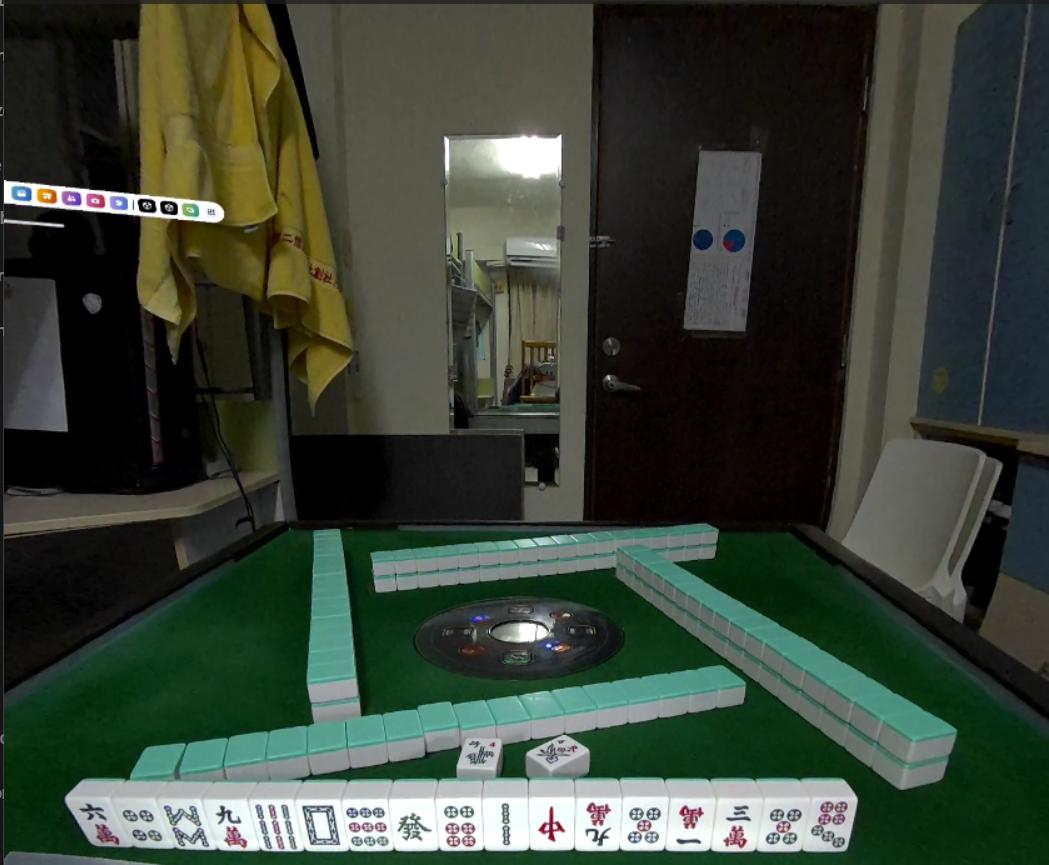mahjong: (160, 800, 224, 856), (246, 796, 303, 858), (340, 802, 393, 859), (293, 802, 343, 855), (810, 796, 856, 853), (486, 795, 530, 852), (64, 800, 123, 842), (577, 796, 621, 852), (433, 797, 476, 851), (533, 799, 583, 845), (209, 800, 253, 852), (719, 802, 763, 853), (673, 796, 715, 849), (117, 799, 164, 845), (393, 797, 436, 844), (764, 802, 804, 852), (624, 803, 669, 847)
